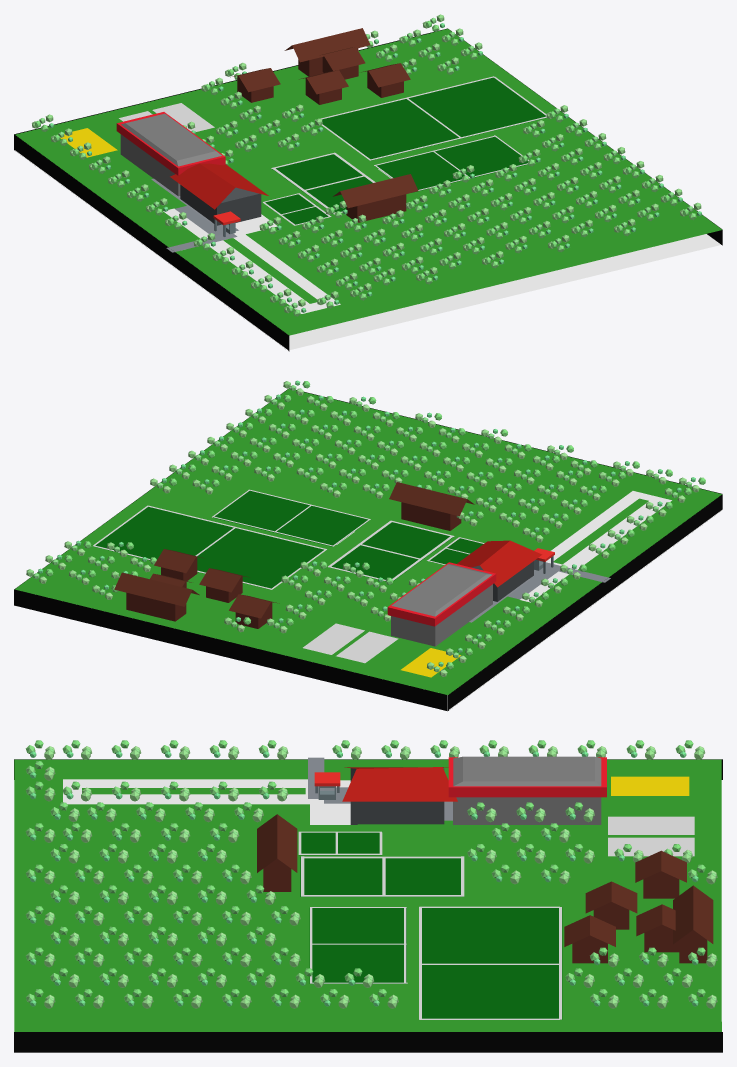
Rendered from attmedia.glb.
The picture shows the model from 3 angles, top to bottom: view 1: azimuth 30°, elevation 25°; view 2: azimuth 150°, elevation 25°; view 3: azimuth 270°, elevation 25°; orthographic projection. The views are drawn at different scales.
Parts seen in each view (by area): view 1: Plane.074, Plane.075, Plane.147, Plane.163, Plane.138, Plane.132, Cube.012, Plane.080, Cube.016, Cube.007, Cube.015, Plane.095 (+34 smaller); view 2: Plane.074, Plane.075, Plane.147, Plane.111, Cube.012, Plane.138, Plane.132, Plane.080, Cube.016, Cube.015, Cube.104, Cube.005 (+35 smaller); view 3: Plane.074, Plane.075, Plane.147, Plane.039, Cube.012, Plane.132, Plane.080, Cube.016, Plane.094, Cube.007, Cube.005, Plane.188 (+77 smaller).
Part boxes in pixels (x1,y1,x2,y2): Plane.074: [438, 146, 707, 261]; Plane.075: [246, 192, 518, 306]; Plane.147: [322, 77, 546, 160]; Plane.163: [14, 150, 720, 350]; Plane.138: [14, 134, 289, 351]; Plane.132: [375, 136, 527, 192]; Cube.012: [120, 113, 221, 196]; Plane.080: [272, 154, 372, 212]; Cube.016: [170, 163, 268, 209]; Cube.007: [180, 185, 261, 225]; Cube.015: [333, 174, 418, 208]; Plane.095: [220, 145, 303, 196]; Plane.074: [175, 400, 447, 511]; Plane.075: [371, 447, 631, 550]; Plane.147: [93, 506, 323, 589]; Plane.111: [14, 589, 447, 710]; Cube.012: [391, 564, 492, 646]; Plane.138: [447, 494, 722, 710]; Plane.132: [213, 490, 369, 546]; Plane.080: [327, 522, 452, 580]; Cube.016: [457, 540, 542, 587]; Cube.015: [389, 482, 474, 516]; Cube.104: [114, 572, 199, 606]; Cube.005: [387, 562, 496, 626]; Plane.074: [52, 923, 309, 1031]; Plane.075: [52, 804, 309, 912]; Plane.147: [422, 907, 562, 1019]; Plane.039: [14, 1032, 722, 1052]; Cube.012: [453, 756, 601, 824]; Plane.132: [309, 908, 406, 983]; Plane.080: [300, 856, 463, 896]; Cube.016: [342, 767, 457, 801]; Plane.094: [357, 820, 553, 845]; Cube.007: [350, 768, 444, 824]; Cube.005: [448, 757, 606, 797]; Plane.188: [449, 1021, 640, 1031].
Bounding box in the file's own units: 265 × 28.01 × 289.
